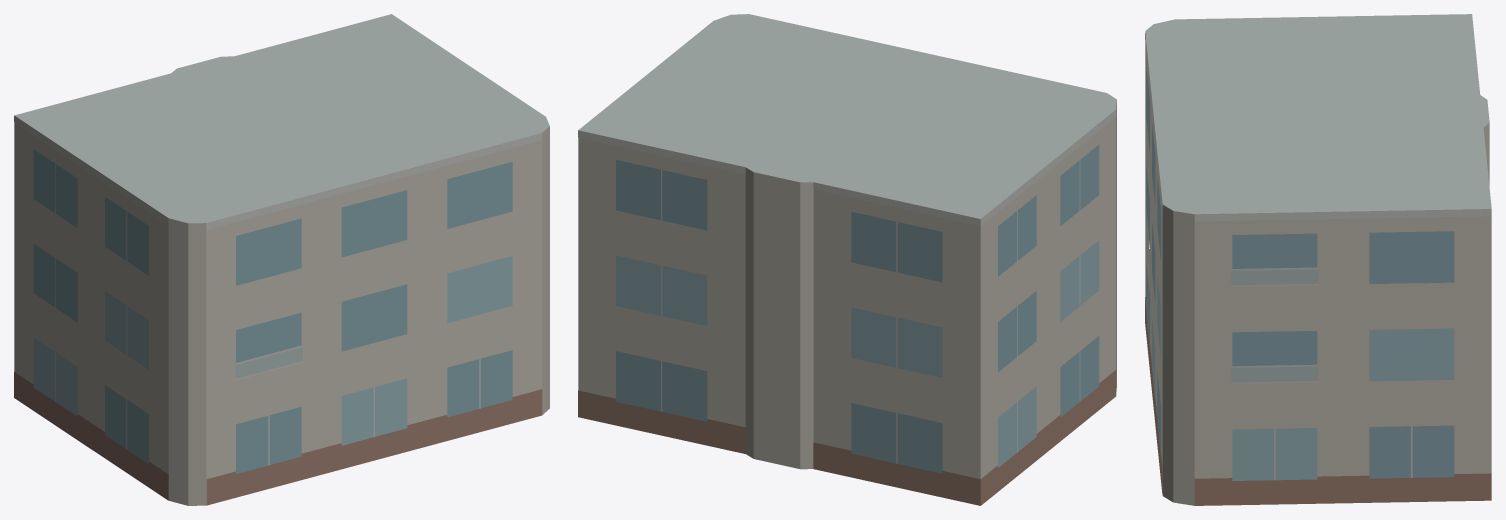
The model's file is survey-upis-32732767.glb.
3 views of the same model, side by side, from view 1: azimuth 30°, elevation 25°; view 2: azimuth 150°, elevation 25°; view 3: azimuth 270°, elevation 25° (orthographic). The views are drawn at different scales.
Visible parts, largest first — view 1: survey-upis-32732767.tmp; view 2: survey-upis-32732767.tmp; view 3: survey-upis-32732767.tmp.
Part boxes in pixels (x1,y1,x2,y2): survey-upis-32732767.tmp: [14, 14, 549, 505]; survey-upis-32732767.tmp: [578, 14, 1116, 505]; survey-upis-32732767.tmp: [1145, 14, 1491, 505].
Size of the model in its own units: 14.37 by 9.75 by 10.51.
